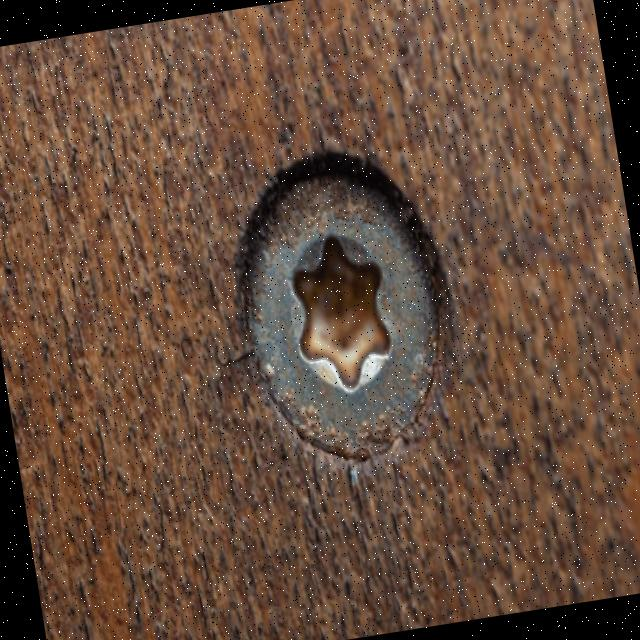Torx: (229, 161, 462, 473)
